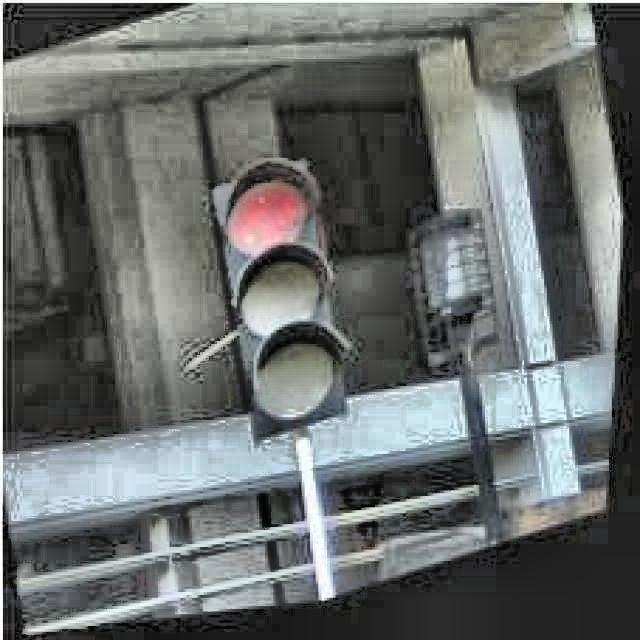red: (214, 175, 349, 423)
